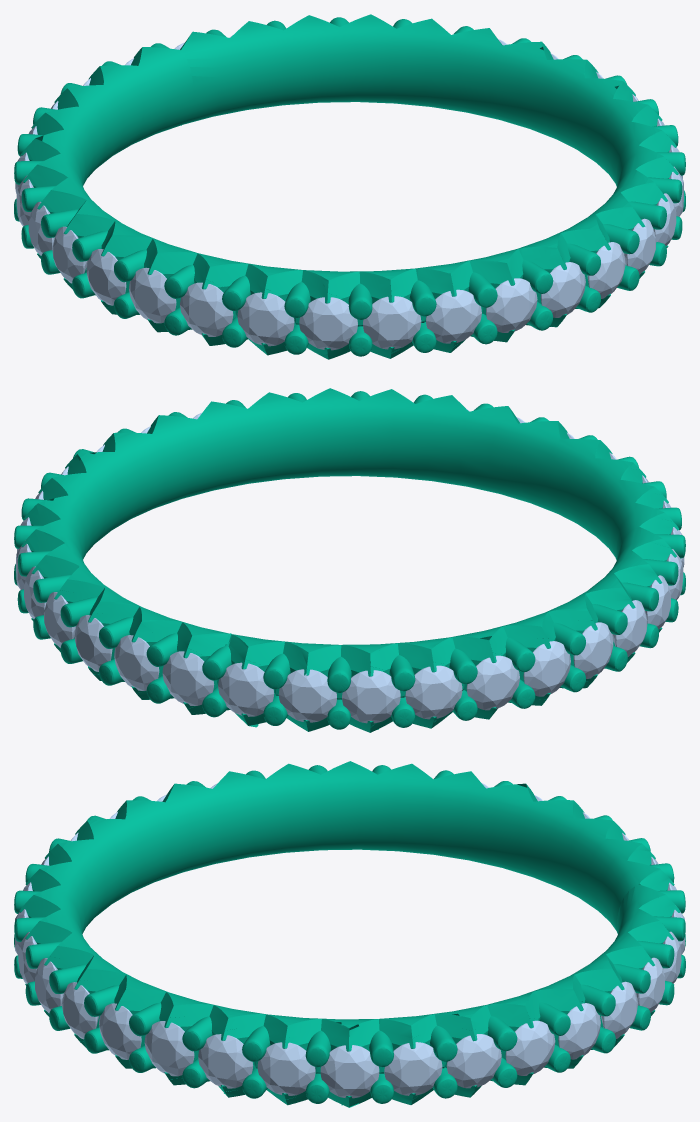
The picture shows the model from 3 angles, top to bottom: view 1: azimuth 30°, elevation 25°; view 2: azimuth 150°, elevation 25°; view 3: azimuth 270°, elevation 25°; orthographic projection.
Parts seen in each view (by area): view 1: PART0001 (×14), Diamond_Round (×14); view 2: PART0001 (×15), Diamond_Round (×14); view 3: PART0001 (×15), Diamond_Round (×15).
Boxes of the visible parts, x1,y1,x2,y2 form: PART0001 (×14): [21, 14, 678, 359]; Diamond_Round (×14): [28, 193, 676, 350]; PART0001 (×15): [21, 388, 678, 732]; Diamond_Round (×14): [24, 566, 670, 723]; PART0001 (×15): [19, 761, 680, 1107]; Diamond_Round (×15): [18, 931, 681, 1098].
Size of the model in its own units: 2.82 by 0.3717 by 2.82.
